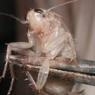cockroach: (24, 4, 78, 66)
